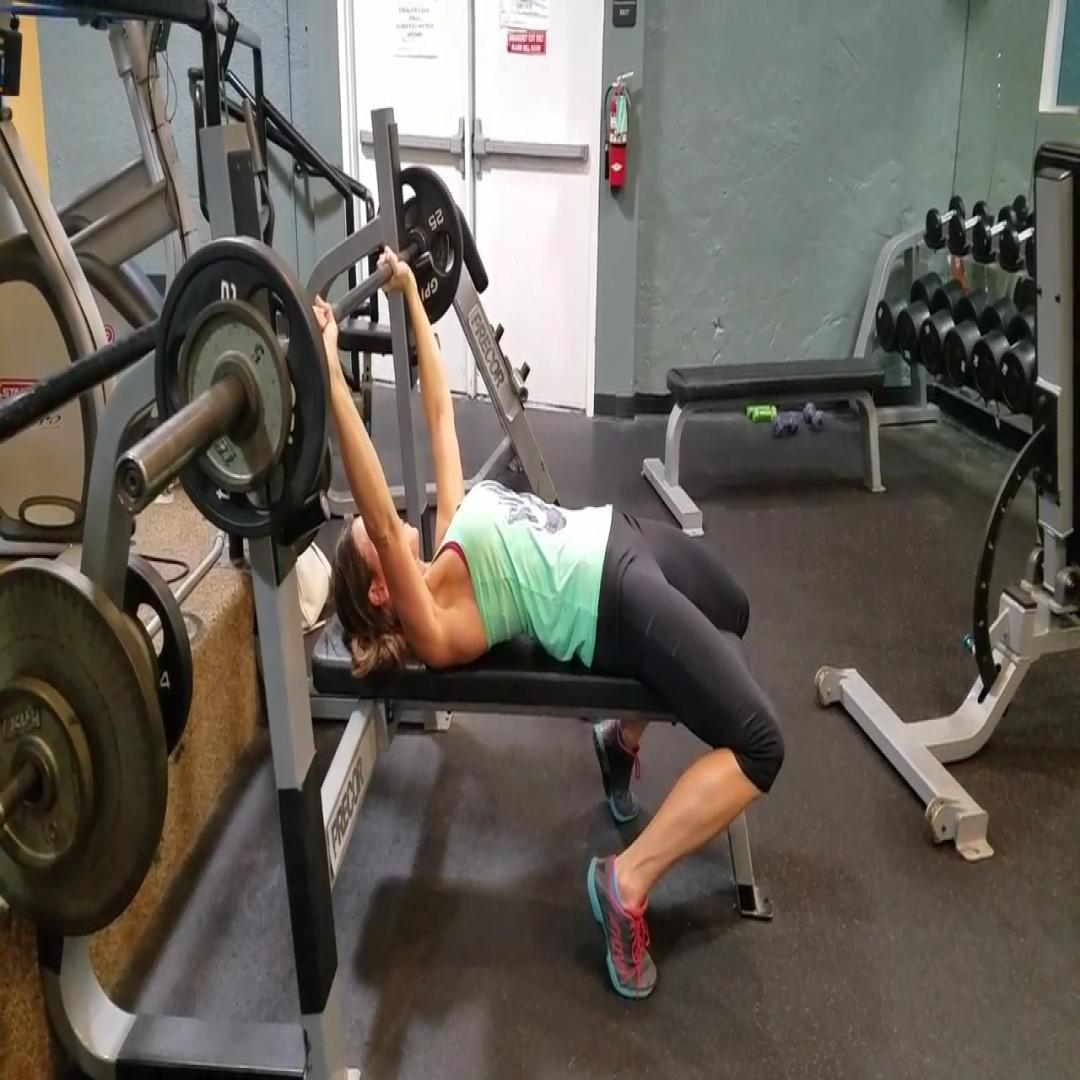Bar: (113, 453, 149, 515)
Barbell: (154, 240, 326, 538)
